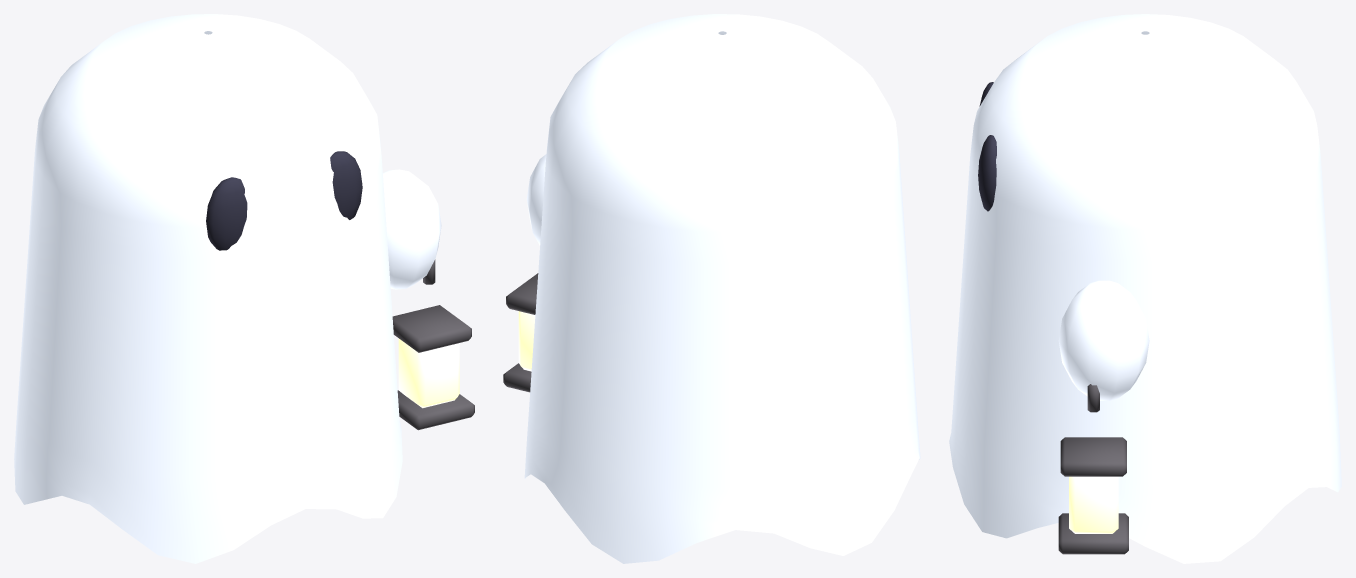
Rendered from ghost.glb.
3 renders of one model, left to right at view 1: azimuth 30°, elevation 25°; view 2: azimuth 150°, elevation 25°; view 3: azimuth 270°, elevation 25°, orthographic.
Visible parts, largest first — view 1: GhostSheet; view 2: GhostSheet; view 3: GhostSheet.
Boxes of the visible parts, left/top/right/bottom form: GhostSheet: left=14, top=14, right=474, bottom=563; GhostSheet: left=503, top=14, right=920, bottom=563; GhostSheet: left=949, top=14, right=1341, bottom=563.
Bounding box in the file's own units: 2.22 × 2.42 × 1.9.
